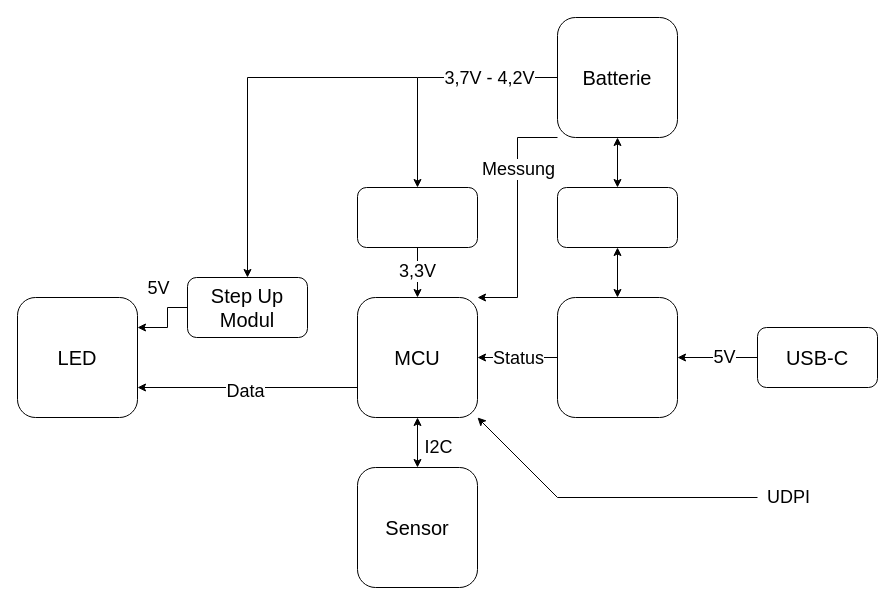
Some shapes in this 895 by 605 pixel diagram are drawn without their labels. The shapes that lost their labels are listed below. From the top down, each one's centre as x and y in pixels, then its label:
the point at 417,217: LDO
the point at 617,217: Batterie- schutz
the point at 617,357: Ladechip
